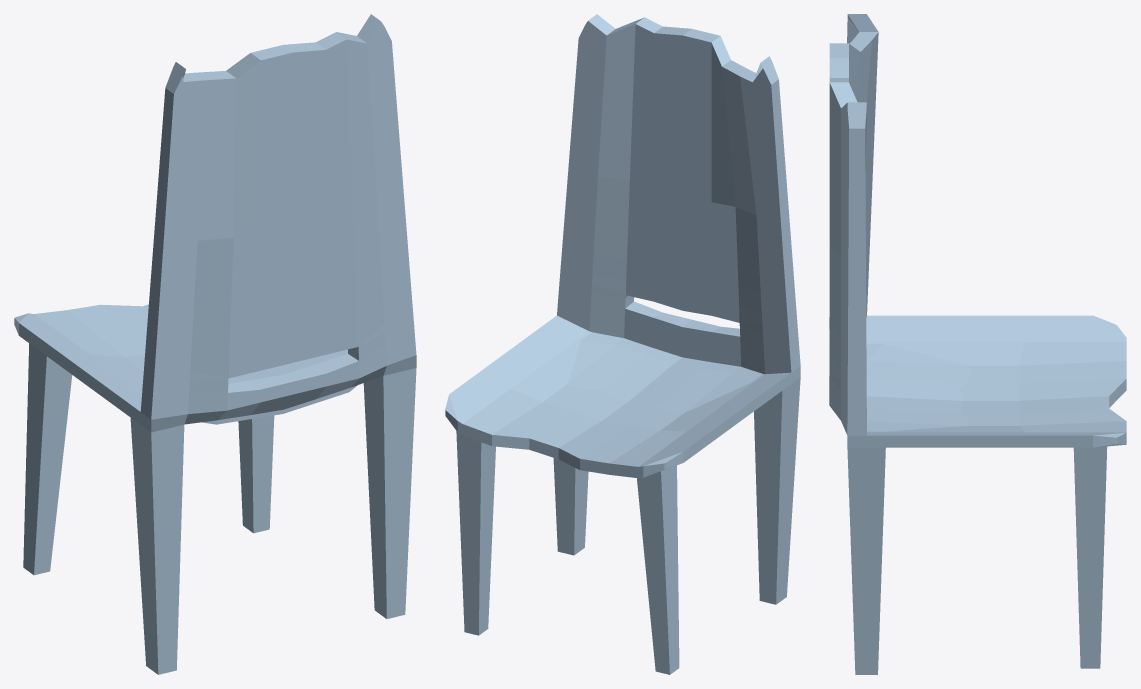
The model's file is oldThrone_.fbx.
3 renders of one model, left to right at view 1: azimuth 30°, elevation 25°; view 2: azimuth 150°, elevation 25°; view 3: azimuth 270°, elevation 25°, orthographic. The views are drawn at different scales.
Parts seen in each view (by area): view 1: Cube.001; view 2: Cube.001; view 3: Cube.001.
Part boxes in pixels (left/top/right/bottom): Cube.001: left=14, top=14, right=416, bottom=674; Cube.001: left=445, top=14, right=800, bottom=674; Cube.001: left=829, top=14, right=1126, bottom=674.
Bounding box in the file's own units: 354 × 770 × 370.
